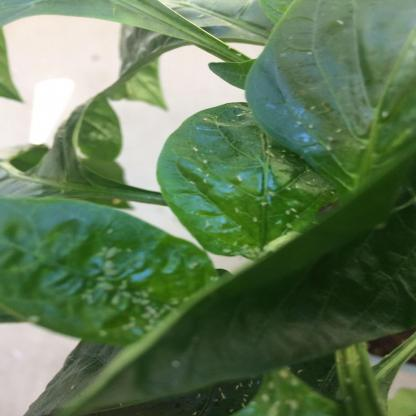Bell_pepper leaf: (1, 197, 219, 355), (243, 1, 415, 187), (159, 98, 337, 263)
